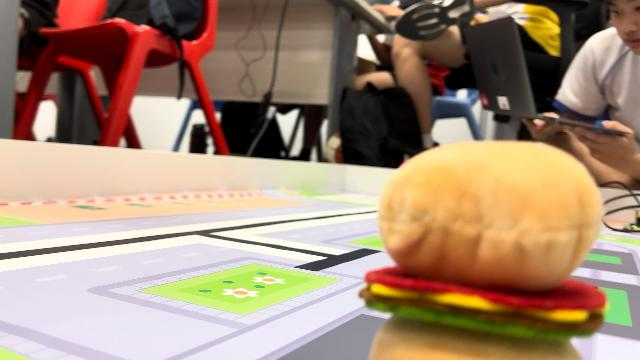burger: (359, 135, 608, 360)
